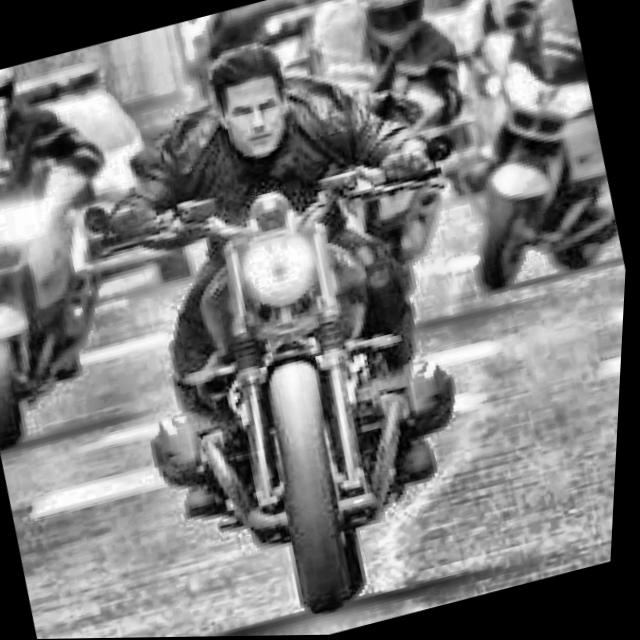motorcycle: (12, 61, 590, 640)
